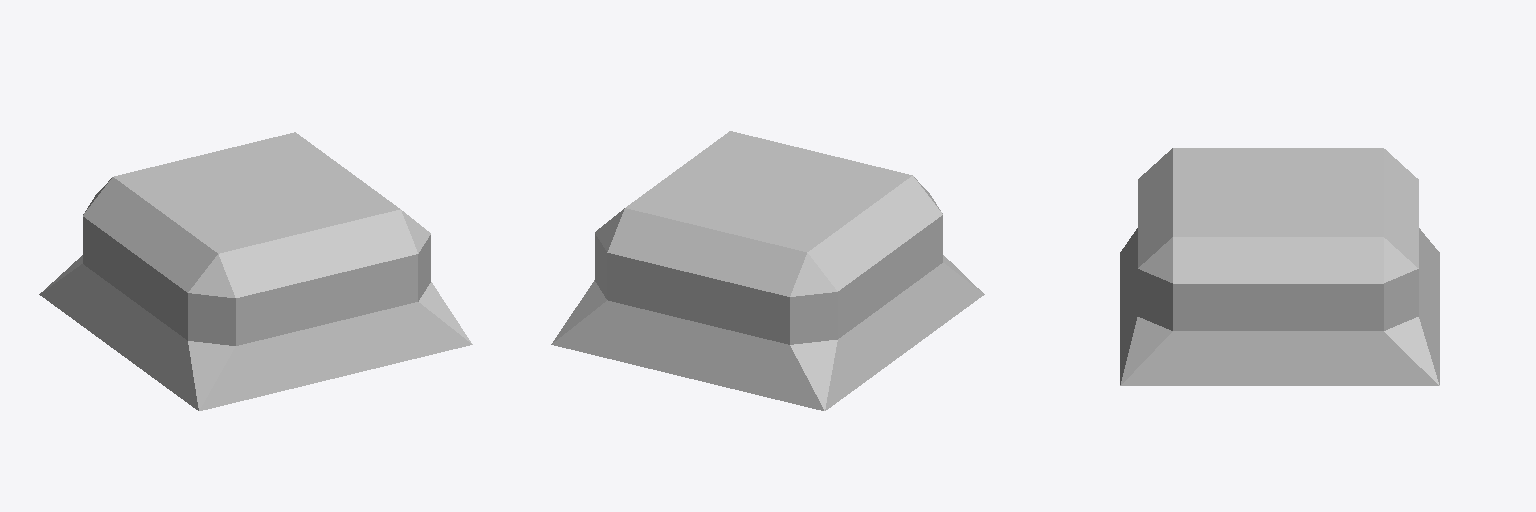
Rendered from riot_helmet.obj.
3 views of the same model, side by side, from view 1: azimuth 30°, elevation 25°; view 2: azimuth 150°, elevation 25°; view 3: azimuth 270°, elevation 25° (orthographic).
Parts seen in each view (by area): view 1: beveled_cuboid; view 2: beveled_cuboid; view 3: beveled_cuboid.
Boxes of the visible parts, <box> form: beveled_cuboid: <box>39,132,472,410</box>; beveled_cuboid: <box>551,131,984,410</box>; beveled_cuboid: <box>1120,148,1439,385</box>.
Bounding box in the file's own units: 1.12 × 0.5 × 1.14.